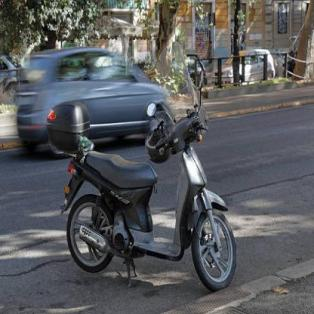Motocicleta: (41, 86, 242, 293)
